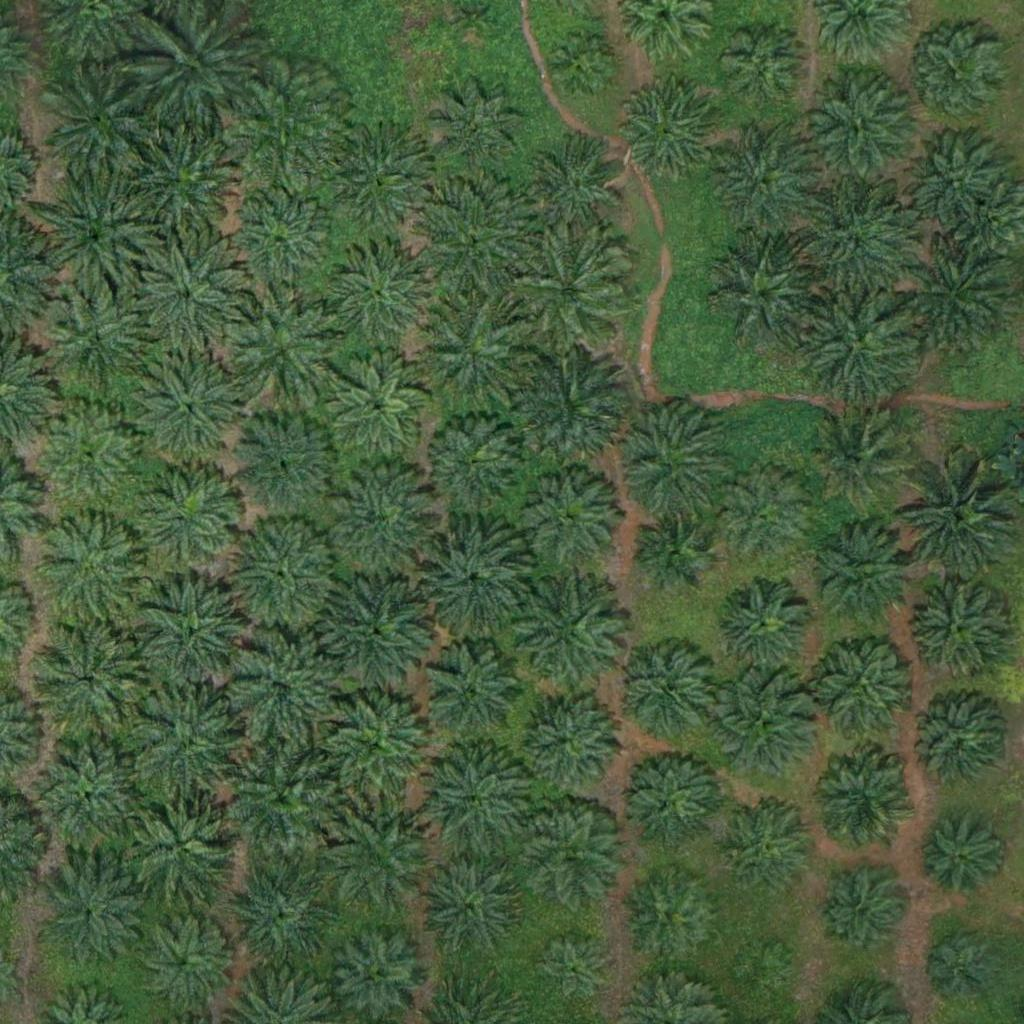Kelapa_Sawit: (229, 70, 342, 184), (141, 9, 254, 123), (510, 233, 623, 347), (614, 407, 727, 521), (806, 628, 919, 742), (704, 667, 817, 781), (35, 861, 148, 975), (806, 76, 919, 189), (36, 514, 149, 627), (28, 623, 141, 736), (121, 124, 234, 237), (224, 186, 337, 299), (228, 293, 341, 406), (225, 407, 338, 520), (328, 461, 441, 574), (320, 571, 433, 684), (799, 187, 912, 300), (901, 249, 1014, 362), (421, 746, 534, 859), (322, 692, 435, 805), (133, 691, 246, 804), (124, 790, 237, 903), (33, 742, 146, 855), (319, 118, 431, 232), (323, 233, 435, 347), (418, 185, 530, 299), (415, 293, 527, 407), (515, 346, 627, 460), (512, 461, 624, 575), (904, 464, 1016, 577), (420, 73, 532, 186), (44, 67, 156, 180), (39, 182, 151, 295), (41, 284, 153, 397), (130, 243, 242, 356), (131, 354, 243, 467), (136, 578, 248, 691), (224, 521, 336, 634), (225, 633, 337, 746), (416, 514, 528, 627), (514, 579, 626, 692), (708, 238, 820, 351), (804, 291, 916, 404), (809, 522, 921, 635), (324, 803, 436, 916), (227, 743, 339, 856), (223, 855, 335, 968), (814, 412, 914, 513), (714, 135, 814, 236), (616, 80, 716, 181), (37, 405, 137, 506), (137, 465, 237, 566), (327, 352, 427, 453), (422, 643, 522, 744), (522, 139, 622, 240), (908, 578, 1008, 679), (721, 797, 821, 898), (619, 746, 719, 847), (623, 865, 723, 966), (519, 691, 619, 792), (520, 803, 620, 904), (420, 852, 520, 953), (423, 409, 523, 509), (612, 642, 712, 742), (714, 465, 814, 565), (711, 577, 811, 677), (910, 692, 1010, 792), (811, 752, 911, 852), (134, 911, 234, 1011), (718, 25, 806, 114), (915, 816, 1003, 904), (917, 31, 1004, 119), (910, 138, 997, 226), (817, 868, 904, 956), (635, 511, 710, 587), (533, 935, 608, 1010), (550, 34, 613, 97), (928, 936, 991, 999), (730, 939, 792, 1002)
